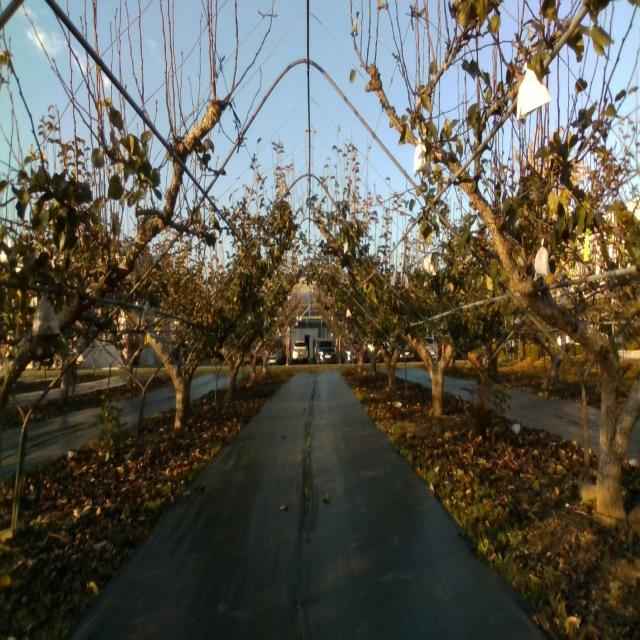pearbags: (516, 62, 551, 121), (32, 296, 60, 336), (414, 136, 432, 174), (534, 238, 548, 281), (423, 254, 437, 276), (143, 302, 156, 323)
